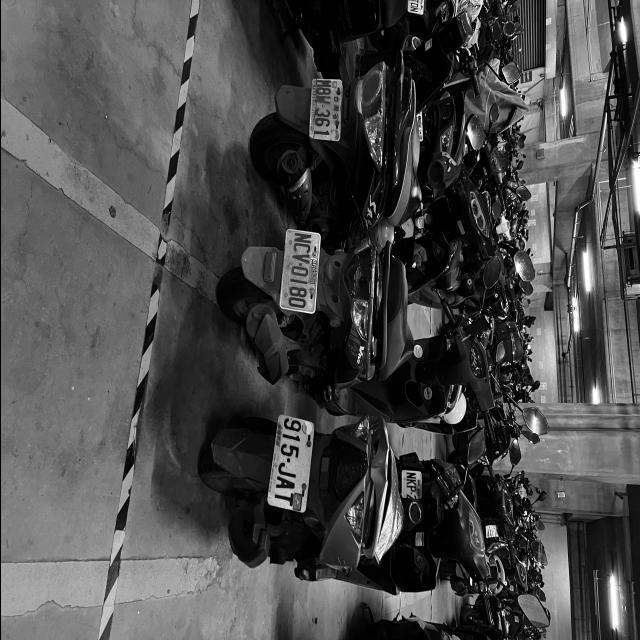-: (285, 458, 290, 462), (321, 105, 324, 108), (298, 264, 302, 266), (409, 492, 411, 494)
0: (287, 296, 306, 310), (290, 265, 308, 279)
1: (281, 431, 299, 443), (289, 278, 307, 286), (313, 130, 329, 135)
3: (314, 109, 330, 117)
5: (279, 443, 299, 460)
6: (314, 118, 330, 128)
8: (288, 286, 306, 299), (315, 88, 331, 96)
9: (282, 417, 301, 434)
A: (275, 475, 295, 492)
C: (292, 242, 311, 254)
D: (410, 2, 418, 8)
J: (276, 461, 296, 481)
K: (405, 479, 415, 485)
M: (315, 80, 331, 87)
N: (293, 232, 311, 245), (405, 472, 415, 479), (409, 7, 417, 13)
P: (405, 485, 415, 493)
T: (272, 492, 293, 508)
V: (291, 254, 309, 265)
W: (315, 95, 330, 106)
plate: (268, 415, 312, 514), (280, 228, 320, 312), (310, 78, 340, 141)
